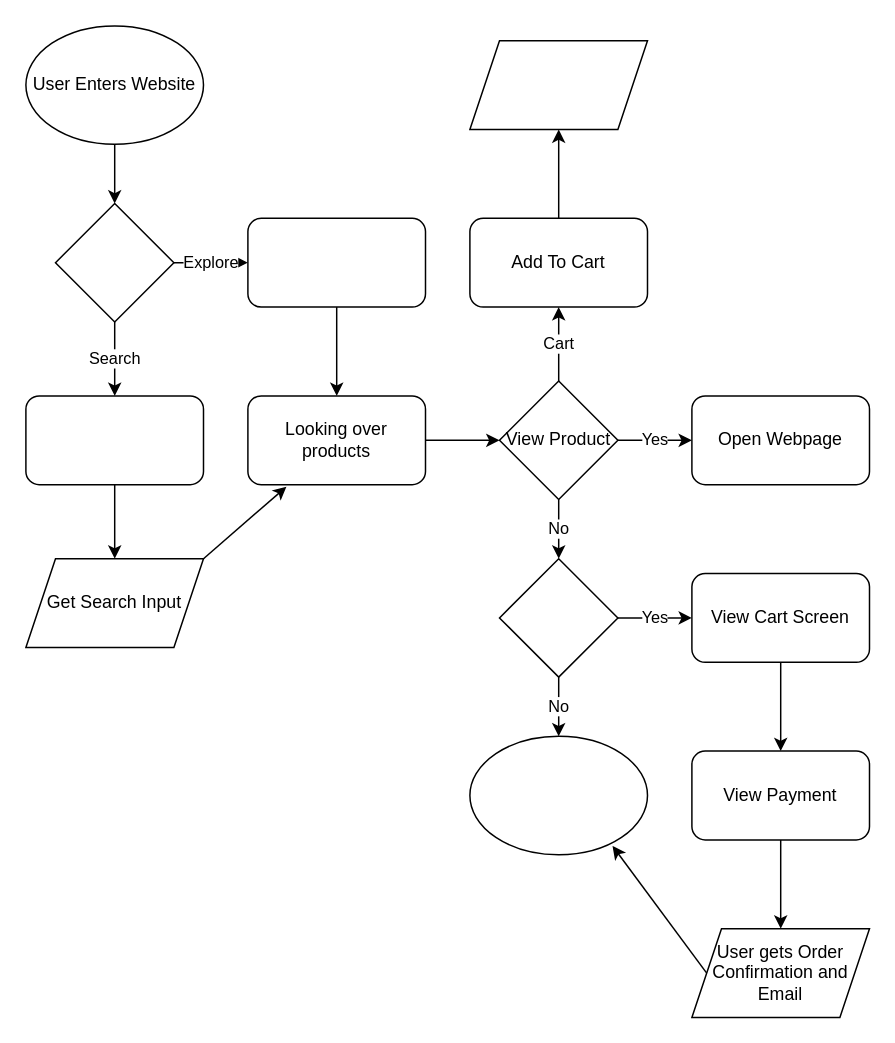
Image size: 895x1043. Some labels were removed from this diagram. The shapes that lost their labels are listed below. From the top down, each one's centre as x and y in pixels, then its label:
(x=558, y=84): User gets Cart Confirmation
(x=336, y=262): Exploring products on Home Page
(x=114, y=439): Searching for a product
(x=558, y=617): Continue?
(x=558, y=795): User Leaves Site
